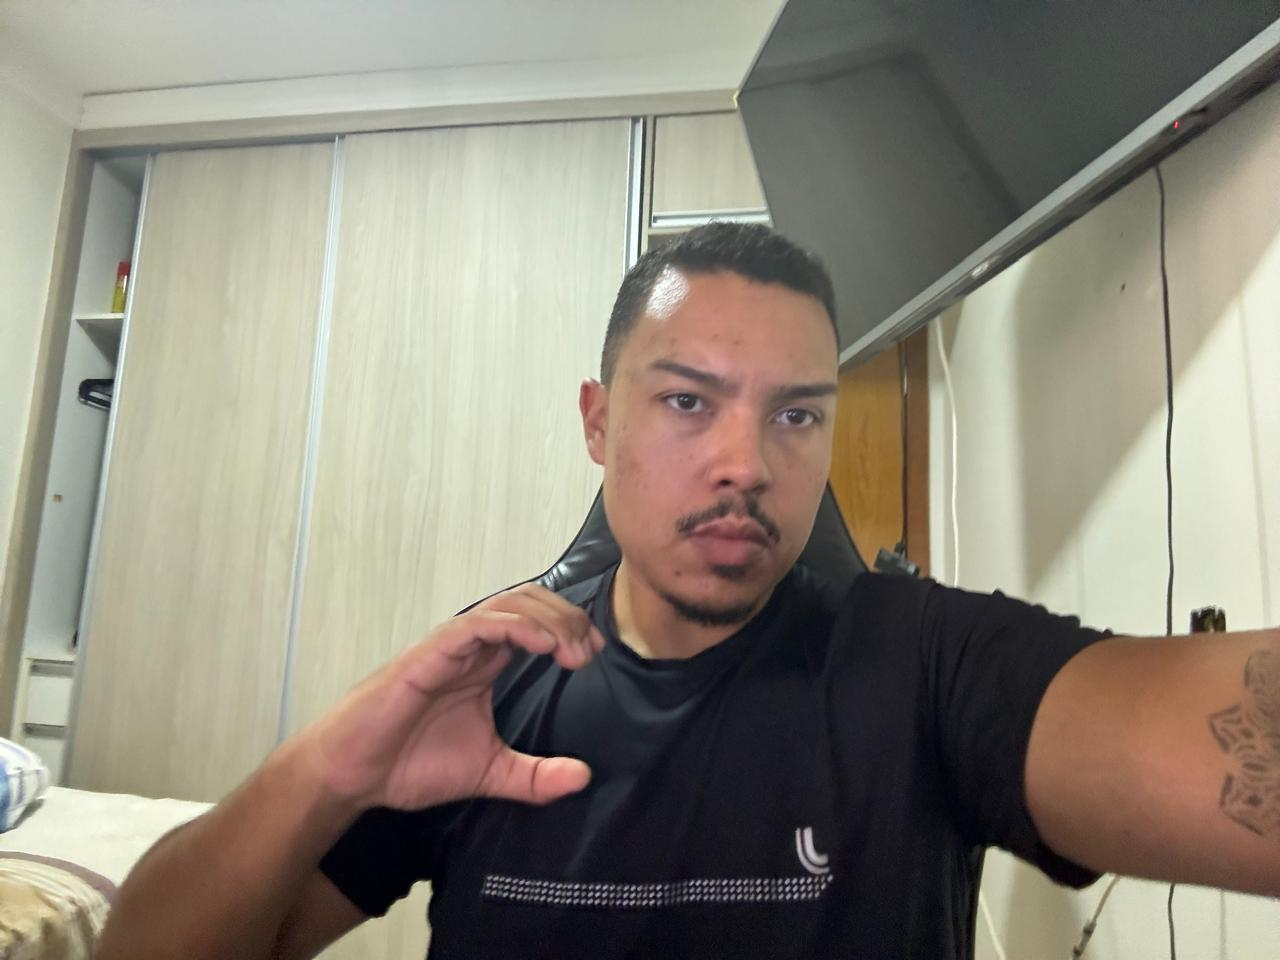c: (304, 573, 610, 812)
